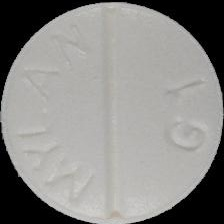76237-169: (0, 0, 224, 224)
